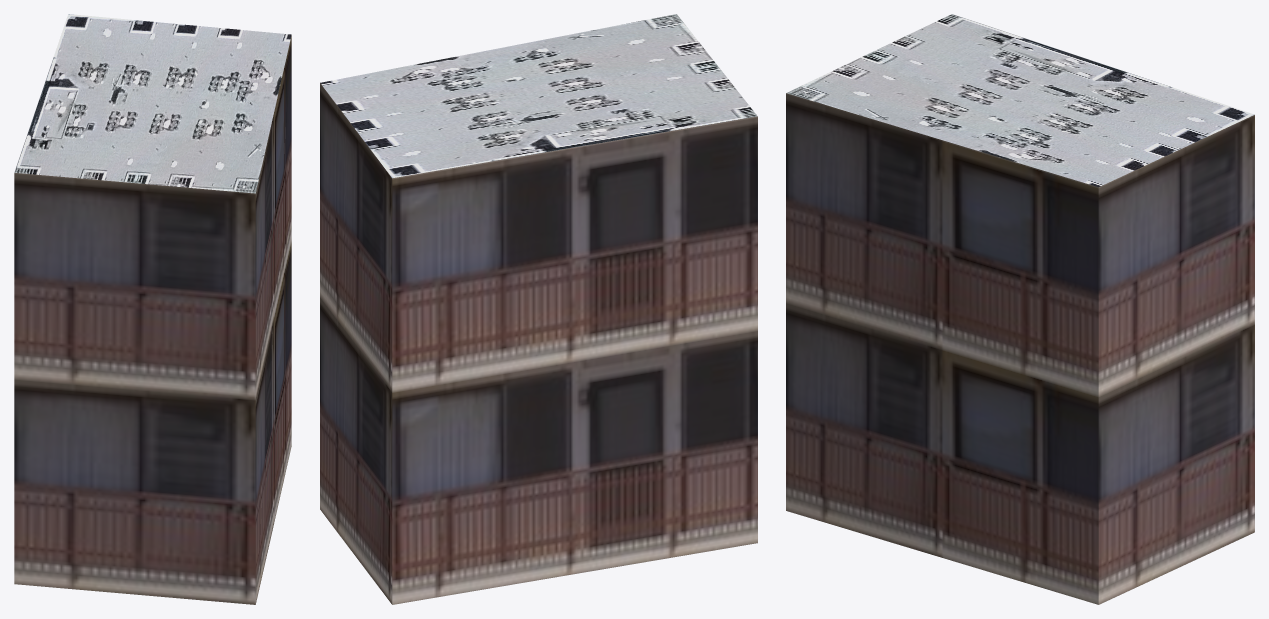
The model's file is ResTex__345.fbx.
3 views of the same model, side by side, from view 1: azimuth 30°, elevation 25°; view 2: azimuth 150°, elevation 25°; view 3: azimuth 270°, elevation 25° (orthographic). The views are drawn at different scales.
Parts seen in each view (by area): view 1: CityEngineMaterial_6_m, CityEngineMaterial_8_m; view 2: CityEngineMaterial_6_m, CityEngineMaterial_8_m; view 3: CityEngineMaterial_6_m, CityEngineMaterial_8_m.
Boxes of the visible parts, bbox=[...] form: CityEngineMaterial_6_m: bbox=[14, 35, 291, 604]; CityEngineMaterial_8_m: bbox=[14, 14, 291, 193]; CityEngineMaterial_6_m: bbox=[320, 83, 757, 604]; CityEngineMaterial_8_m: bbox=[320, 14, 757, 178]; CityEngineMaterial_6_m: bbox=[786, 93, 1254, 604]; CityEngineMaterial_8_m: bbox=[786, 14, 1254, 187].
Bounding box in the file's own units: 5.34 × 6 × 6.1.
2 materials, 2 textured.
